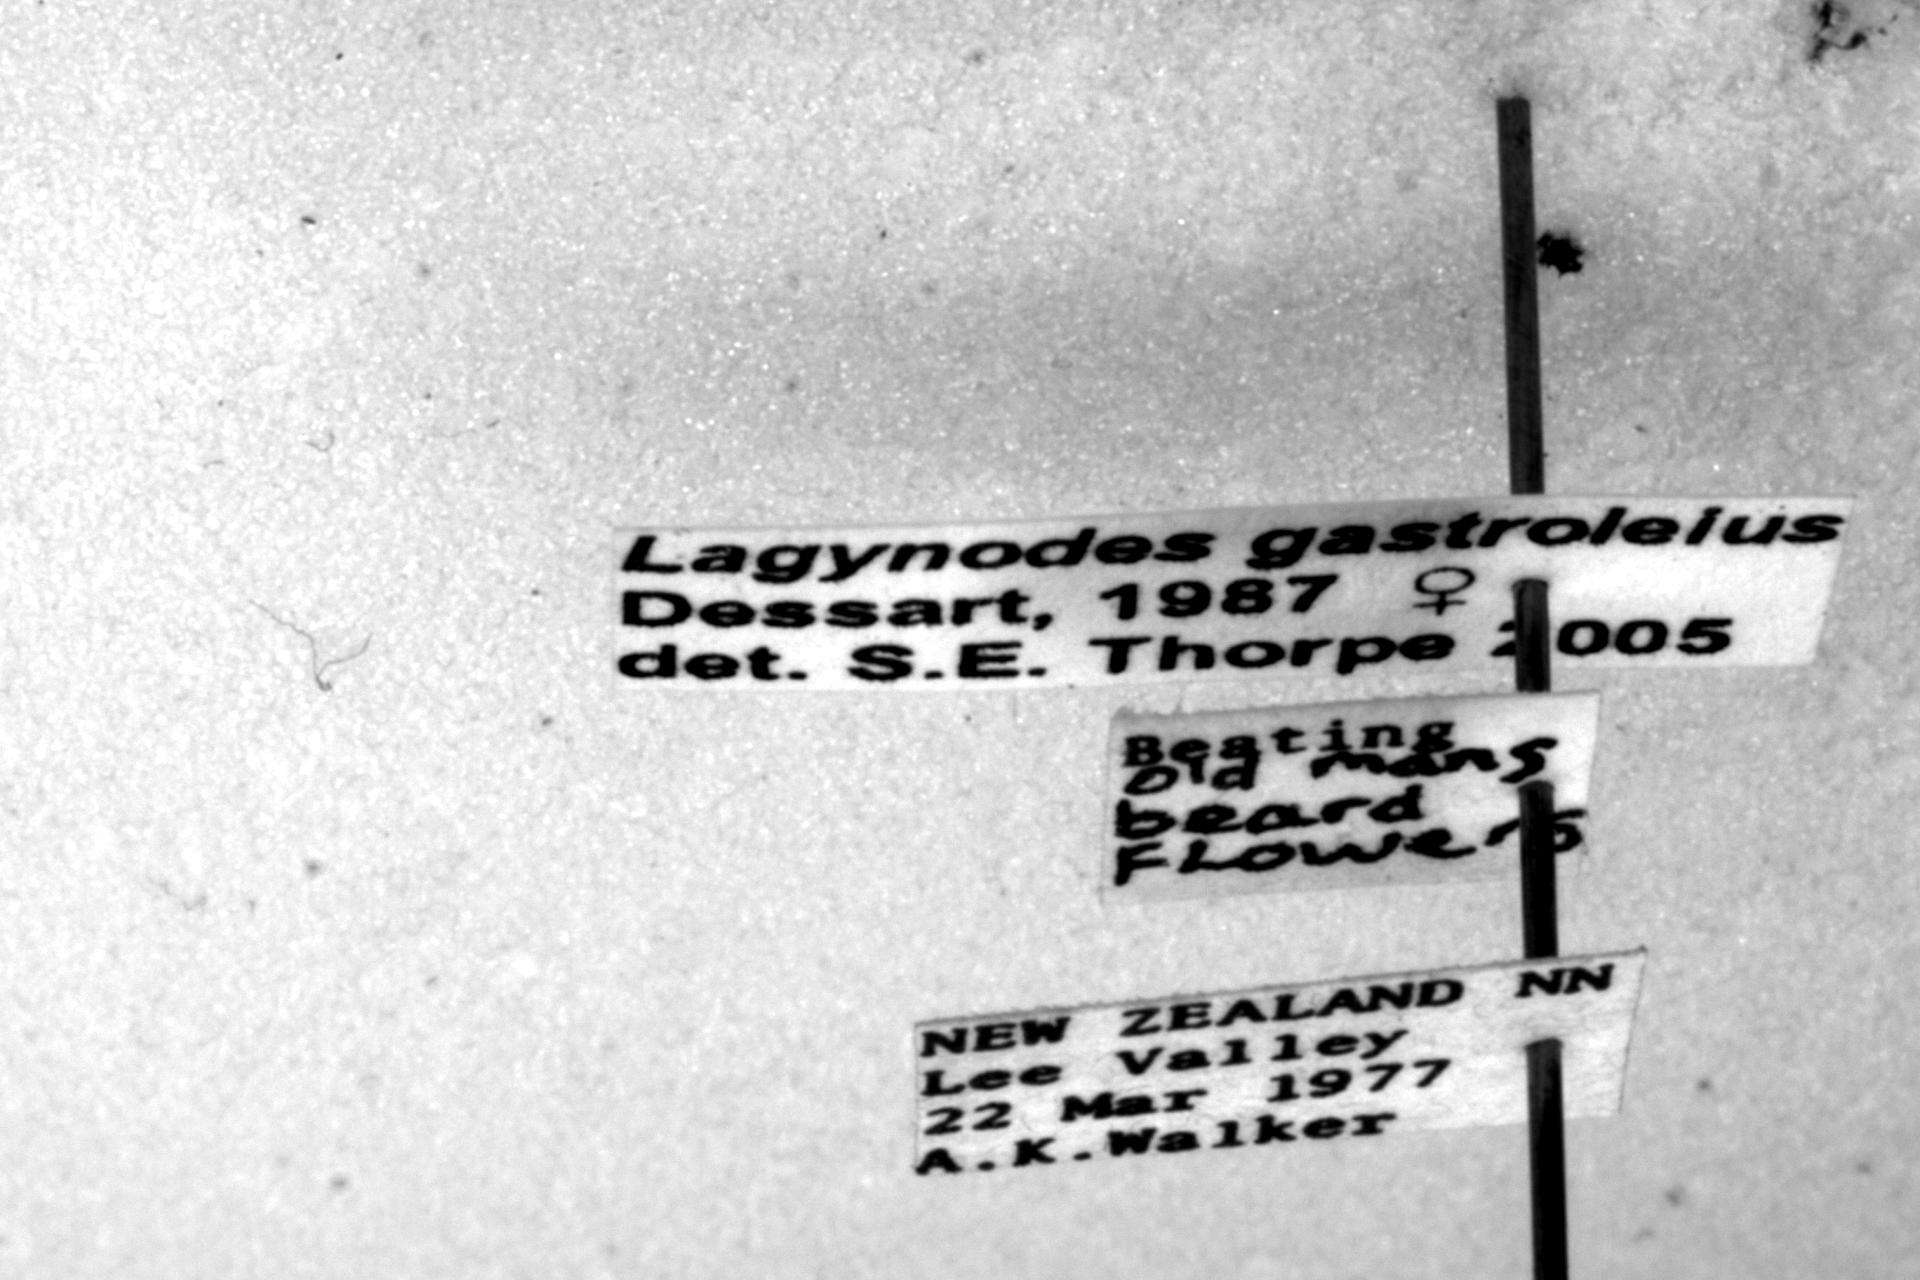mixed_label: (913, 949, 1644, 1174), (1103, 694, 1601, 904)
typed_label: (614, 494, 1853, 690)
